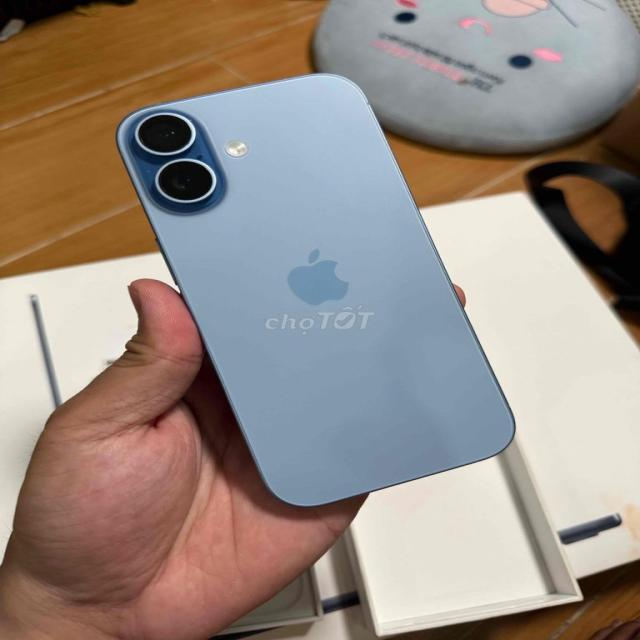gen_17: (116, 67, 540, 510)
